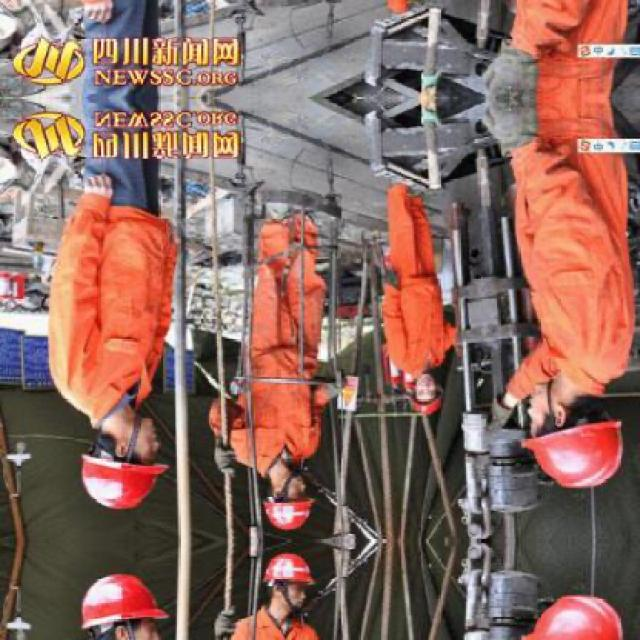con casco: (485, 320, 640, 503), (31, 378, 180, 520), (393, 365, 482, 443), (258, 450, 310, 540)
